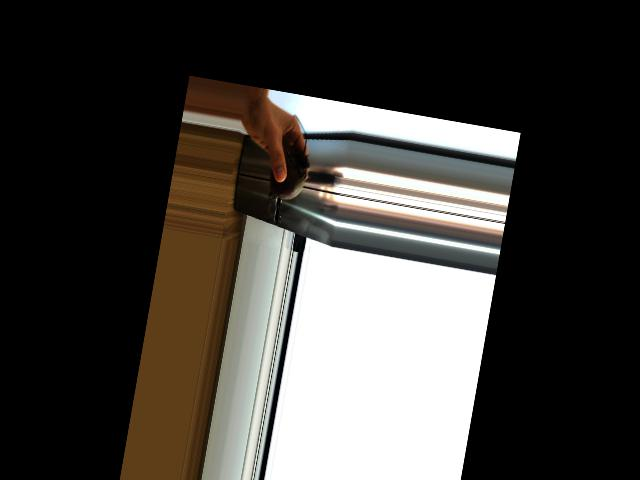beet: (265, 113, 317, 210)
